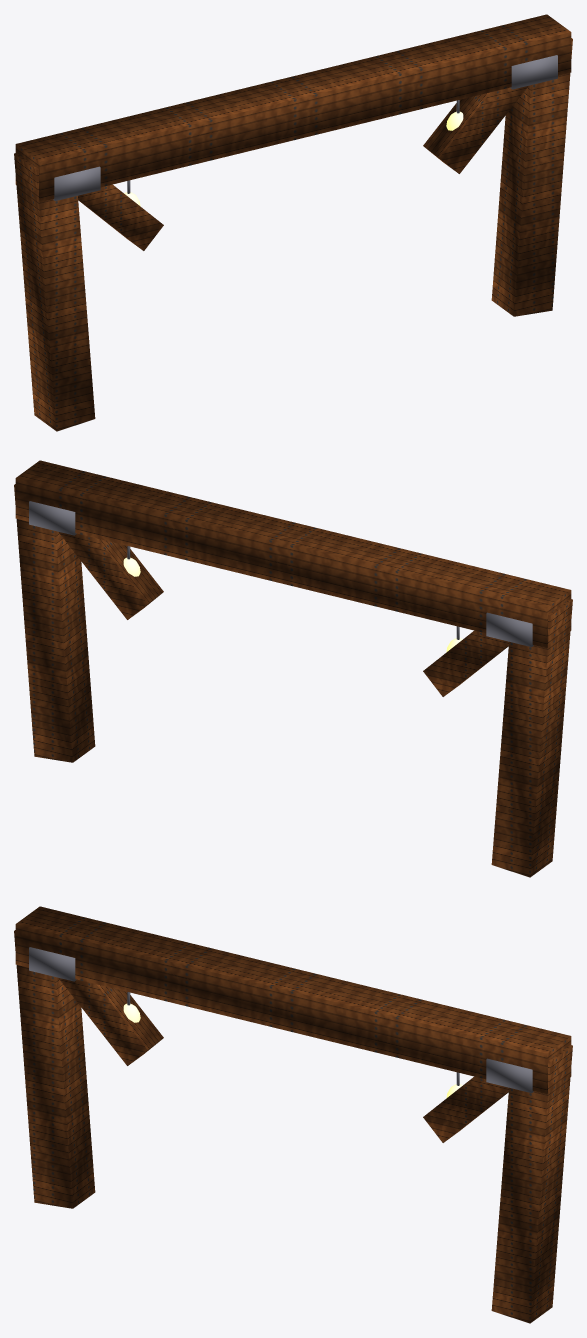
The model's file is prop_mine_beam.glb.
3 renders of one model, top to bottom at view 1: azimuth 30°, elevation 25°; view 2: azimuth 150°, elevation 25°; view 3: azimuth 330°, elevation 25°, orthographic.
Visible parts, largest first — view 1: MinePost_-1.0; view 2: MinePost_-1.0; view 3: MinePost_-1.0.
Boxes of the visible parts, box(x1,y1,x2,y2) form: MinePost_-1.0: box(14, 14, 572, 431); MinePost_-1.0: box(14, 460, 572, 877); MinePost_-1.0: box(14, 906, 572, 1323).
Size of the model in its own units: 31.91 by 15.62 by 2.7.
3 materials, 1 textured.
